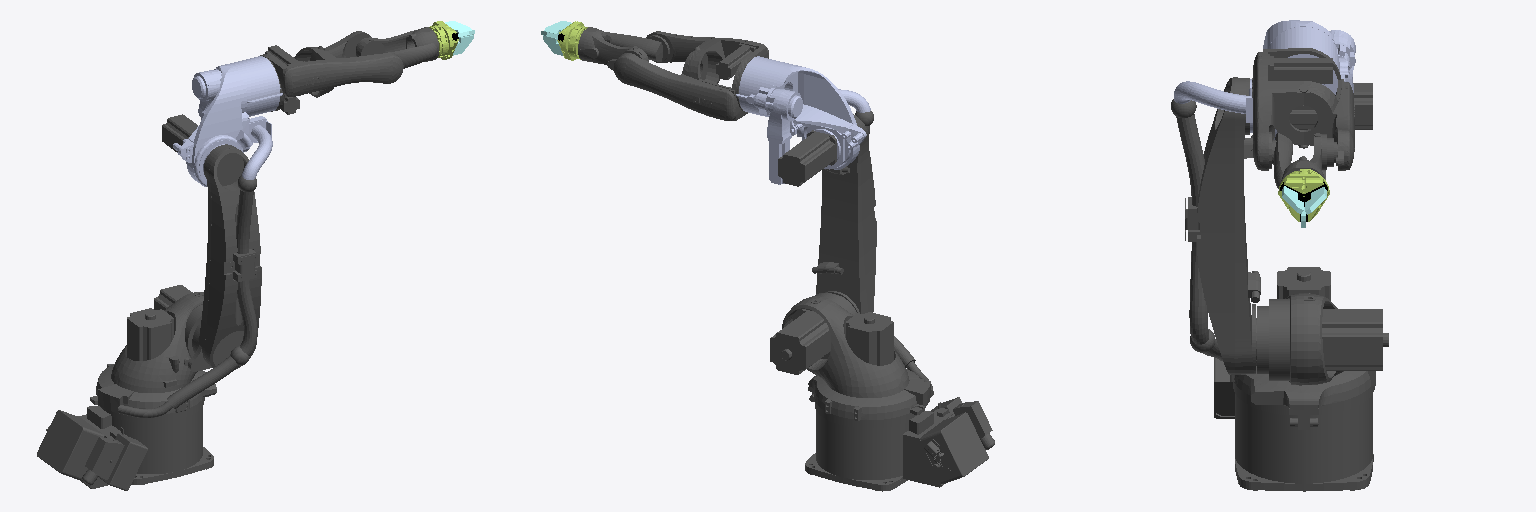
robot.urdf — kr52_description:
<?xml version="1.0" encoding="utf-8"?>
<!-- This URDF was automatically created by SolidWorks to URDF Exporter! Originally created by [author] ([email redacted]) 
     Commit Version: 1.5.1-0-g916b5db  Build Version: 1.5.7152.31018
     For more information, please see http://wiki.ros.org/sw_urdf_exporter -->
<robot name="kr52_description">

  <link name="world"/>

  <joint name="world_to_base" type="fixed">
    <origin xyz="0 0 0" rpy="0 0 0" />
    <parent link="world" />
    <child link="base_link" />
  </joint>

  <link name="base_link">
    <inertial>
	#0.19646 -0.30303 0.18999
      <origin xyz="-0.065069 -0.01427 0.10905" rpy="0 0 0" />
      <mass value="47.205" />
      <inertia ixx="0.5079746" ixy="0.1075298" ixz="0.0244584" iyy="0.9674713" iyz="0.0026404" izz="1.1301033" />
    </inertial>
    <visual>
      <origin xyz="0 0 0" rpy="0 0 0" />
      <geometry>
        <mesh filename="package://kr52_description/meshes/base_link.STL" />
      </geometry>
      <material name="">
        <color rgba="0.4 0.4 0.4 1" />
      </material>
    </visual>
    <collision>
      <origin xyz="0 0 0" rpy="0 0 0" />
      <geometry>
        <mesh filename="package://kr52_description/meshes/base_link.STL" />
      </geometry>
    </collision>
  </link>

  <link name="link_1">
    <inertial>
      <origin xyz="0.0748782 -0.0024585 0.1155281" rpy="0 0 0" />
      <mass value="30.491" />
      <inertia ixx="0.37566" ixy="0.01751" ixz="0.1217" iyy="0.5037" iyz="0.0122" izz="0.5398" />
    </inertial>
    <visual>
      <origin xyz="0 0 0" rpy="0 0 0" />
      <geometry>
        <mesh filename="package://kr52_description/meshes/link_1.STL" />
      </geometry>
      <material name="">
        <color rgba="0.4 0.4 0.4 1" />
      </material>
    </visual>
    <collision>
      <origin xyz="0 0 0" rpy="0 0 0" />
      <geometry>
        <mesh filename="package://kr52_description/meshes/link_1.STL" />
      </geometry>
    </collision>
  </link>

  <joint name="base_to_link1" type="continuous">
    <origin xyz="0 0 0.2255" rpy="0 0 0" />
    <parent link="base_link" />
    <child link="link_1" />
    <axis xyz="0 0 1" />
    <limit
      lower="-2.7053"
      upper="2.7053"
      effort="0"
      velocity="2.72" />
  </joint>

  <link name="link_2">
    <inertial>
      <origin xyz="0.002326 -0.14691 0.3219" rpy="0 0 0" />
      <mass value="19.483" />
      <inertia ixx="1.0010428" ixy="-0.0027968" ixz="-0.0002311" iyy="0.8438332" iyz="0.1673340" izz="0.2118056" />
    </inertial>
    <visual>
      <origin xyz="0 -0.12 0" rpy="0 0 0" />
      <geometry>
        <mesh
          filename="package://kr52_description/meshes/link_2.STL" />
      </geometry>
      <material name="">
        <color rgba="0.4 0.4 0.4 1" />
      </material>
    </visual>
    <collision>
      <origin xyz="0 -0.12 0" rpy="0 0 0" />
      <geometry>
        <mesh
          filename="package://kr52_description/meshes/link_2.STL" />
      </geometry>
    </collision>
  </link>

  <joint name="link1_to_link2" type="continuous">
    <origin xyz="0.18106 -0.002 0.178" rpy="0 0 0" />
    <parent link="link_1" />
    <child link="link_2" />
    <axis xyz="0 1 0" />
    <limit
      lower="-3.1416"
      upper="1.1345"
      effort="0"
      velocity="2.72" />
  </joint>


  <link name="link_3">
    <inertial>
      <origin xyz="0.08651 -0.03078 0.09728" rpy="0 0 0" />
      <mass value="13.345" />
      <inertia ixx="0.18246" ixy="0.03176" ixz="0.05816" iyy="0.18121" iyz="0.03367" izz="0.17365" />
    </inertial>
    <visual>
      <origin xyz="0 -0.135 0" rpy="0 0 0" />
      <geometry>
        <mesh filename="package://kr52_description/meshes/link_3.STL" />
      </geometry>
      <material name="">
        <color rgba="0.79216 0.81961 0.93333 1" />
      </material>
    </visual>
    <collision>
      <origin xyz="0 -0.135 0" rpy="0 0 0" />
      <geometry>
        <mesh filename="package://kr52_description/meshes/link_3.STL" />
      </geometry>
    </collision>
  </link>

  <joint name="link2_to_link3" type="continuous">
    <origin xyz="0 0 0.6" rpy="0 0 0" />
    <parent link="link_2" />
    <child link="link_3" />
    <axis xyz="0 1 0" />
    <limit
      lower="-1.9199"
      upper="2.9671"
      effort="0"
      velocity="3.96" />
  </joint>


  <link name="link_4">
    <inertial>
      <origin xyz="0.17404 -0.00056 0.00022" rpy="0 0 0" />
      <mass value="7.4654" />
      <inertia ixx="0.06612" ixy="-0.00043" ixz="0.00014" iyy="0.094073" iyz="-0.01259" izz="0.15737" />
    </inertial>
    <visual>
      <origin xyz="0 0 0" rpy="0 0 0" />
      <geometry>
        <mesh filename="package://kr52_description/meshes/link_4.STL" />
      </geometry>
      <material name="">
        <color rgba="0.4 0.4 0.4 1" />
      </material>
    </visual>
    <collision>
      <origin xyz="0 0 0" rpy="0 0 0" />
      <geometry>
        <mesh filename="package://kr52_description/meshes/link_4.STL" />
      </geometry>
    </collision>
  </link>

  <joint name="link3_to_link4" type="continuous">
    <origin xyz="0.2246 0 0.17" rpy="0 0 0" />
    <parent link="link_3" />
    <child link="link_4" />
    <axis xyz="1 0 0" />
    <limit
      lower="-2.8798"
      upper="2.8798"
      effort="0"
      velocity="6.81" />
  </joint>


  <link name="link_5">
    <inertial>
      <origin xyz="0.075375 -0.0070921 0" rpy="0 0 0" />
      <mass value="1.9338" />
      <inertia ixx="0.00493" ixy="-0.00058" ixz="0.0" iyy="0.01155" iyz="0.0" izz="0.01465" />
    </inertial>
    <visual>
      <origin xyz="0 0 0" rpy="0 0 0" />
      <geometry>
        <mesh filename="package://kr52_description/meshes/link_5.STL" />
      </geometry>
      <material name="">
        <color rgba="0.4 0.4 0.4 1" />
      </material>
    </visual>
    <collision>
      <origin xyz="0 0 0" rpy="0 0 0" />
      <geometry>
        <mesh
          filename="package://kr52_description/meshes/link_5.STL" />
      </geometry>
    </collision>
  </link>

  <joint
    name="link4_to_link5"
    type="continuous">
    <origin
      xyz="0.3942 0 0"
      rpy="0 0 0" />
    <parent
      link="link_4" />
    <child
      link="link_5" />
    <axis
      xyz="0 1 0" />
    <limit
      lower="-2.4435"
      upper="2.4435"
      effort="0"
      velocity="6.81" />
  </joint>


  <link
    name="link_6">
    <inertial>
      <origin xyz="0 0 0" rpy="0 0 0" />
      <mass value="0.036057" />
      <inertia ixx="0.0000305" ixy="0" ixz="0" iyy="0.0000159" iyz="0" izz="0.0000160" />
    </inertial>
    <visual>
      <origin
        xyz="0 0 0"
        rpy="0 0 0" />
      <geometry>
        <mesh
          filename="package://kr52_description/meshes/link_6.STL" />
      </geometry>
      <material
        name="">
        <color
          rgba="0.4 0.4 0.4 1" />
      </material>
    </visual>
    <collision>
      <origin
        xyz="0 0 0"
        rpy="0 0 0" />
      <geometry>
        <mesh
          filename="package://kr52_description/meshes/link_6.STL" />
      </geometry>
    </collision>
  </link>

  <joint name="link5_to_link6"
    type="continuous">
    <origin
      xyz="0.1845 0.002 0"
      rpy="0 0 0" />
    <parent
      link="link_5" />
    <child
      link="link_6" />
    <axis
      xyz="1 0 0" />
  </joint>


    <!-- ******************** GRIPPER *********************-->
    <link name="base_link_grp">
        <inertial>
            <origin xyz="-0.12444 0.015119 0.11802" rpy="0 0 0" />
            <mass value="0.13435" />
            <inertia ixx="0.0000834" ixy="0.0" ixz="0.0" iyy="0.0001620" iyz="0.0" izz="0.0000794" />
        </inertial>

        <visual>
            <origin xyz="0 0 0" rpy="0 0 0" />
            <geometry>
                <mesh filename="package://gripper_schunk_kuka/meshes/base_link_grp.STL" />
            </geometry>
            <material name="">
                <color rgba="0.79 0.9 0.48 1" />
            </material>
        </visual>
        <collision>
            <origin xyz="0 0 0" rpy="0 0 0" />
            <geometry>
                <mesh filename="package://gripper_schunk_kuka/meshes/base_link_grp.STL" />
            </geometry>
        </collision>
    </link>

    <joint name="link6_to_bgrp" type="fixed">
        <origin xyz="0.0155 0 0" rpy="0 0 0" />
        <parent link="link_6" />
        <child link="base_link_grp" />
    </joint>

    <link name="structure_grp">
        <inertial>
            <origin xyz="-0.00021291 0.023532 3.5559E-05" rpy="0 0 0" />
            <mass value="1.0789" />
            <inertia ixx="0.0009873" ixy="-0.0" ixz="0.0" iyy="0.0015558" iyz="0.0" izz="0.0009789" />
        </inertial>
        <visual>
            <origin xyz="0 0 0" rpy="0 0 0" />
            <geometry>
                <mesh filename="package://gripper_schunk_kuka/meshes/structure_grp.STL" />
            </geometry>
            <material name="">
                <color rgba="0.79 0.9 0.48 1" />
            </material>
        </visual>
        <collision>
            <origin xyz="0 0 0" rpy="0 0 0" />
            <geometry>
                <mesh filename="package://gripper_schunk_kuka/meshes/structure_grp.STL" />
            </geometry>
        </collision>
    </link>

    <joint name="base_to_str_grp" type="fixed">
        <origin xyz="0.0063 0 0" rpy="0 0 0" />
        <parent link="base_link_grp" />
        <child link="structure_grp" />
    </joint>

    <link name="guide_1_grp">
        <inertial>
            <origin xyz="0 0.009 0.027502" rpy="0 0 0" />
            <mass value="0.06552" />
            <inertia ixx="0.0000180" ixy="0.0" ixz="0.0" iyy="0.0000185" iyz="0.0" izz="0.0000046" />
        </inertial>

        <visual>
            <origin xyz="0 0 0" rpy="0 0 0" />
            <geometry>
                <mesh filename="package://gripper_schunk_kuka/meshes/guide_1_grp.STL" />
            </geometry>
            <material name="">
                <color rgba="0 0 0 1" />
            </material>
        </visual>
        <collision>
            <origin xyz="0 0 0" rpy="0 0 0" />
            <geometry>
                <mesh filename="package://gripper_schunk_kuka/meshes/guide_1_grp.STL" />
            </geometry>
        </collision>
    </link>

    <joint name="str_to_g1_grp" type="prismatic">
        <origin xyz="0.0321 0 -0.0043" rpy="3.1416 0 0" />
        <parent link="structure_grp" />
        <child link="guide_1_grp" />
        <axis xyz="0 0 1" />
		<dynamics damping="0.7"/>
        <limit lower="0" upper="0.005" effort="0" velocity="0.05" />
    </joint>

    <link name="guide_2_grp">
        <inertial>
            <origin xyz="0 0.0094 0.027502" rpy="0 0 0" />
            <mass value="0.06552" />
            <inertia ixx="0.0000180" ixy="0.0" ixz="0.0" iyy="0.0000185" iyz="0.0" izz="0.0000046" />
        </inertial>

        <visual>
            <origin xyz="0 0 0" rpy="0 0 0" />
            <geometry>
                <mesh filename="package://gripper_schunk_kuka/meshes/guide_1_grp.STL" />
            </geometry>
            <material name="">
                <color rgba="0 0 0 1" />
            </material>
        </visual>
        <collision>
            <origin xyz="0 0 0" rpy="0 0 0" />
            <geometry>
                <mesh filename="package://gripper_schunk_kuka/meshes/guide_1_grp.STL" />
            </geometry>
        </collision>
    </link>

    <joint name="str_to_g2_grp" type="prismatic">
        #-0.0037239 0.0321 0.00215
        <origin xyz="0.0321 -3.724E-3 2.15E-3" rpy="1.0472 0 0" />
        <parent link="structure_grp" />
        <child link="guide_2_grp" />
        <axis xyz="0 0 1" />
		<dynamics damping="0.7"/>
        <limit lower="0" upper="0.005" effort="0" velocity="0.05" />
    </joint>

    <link name="guide_3_grp">
        <inertial>
            <origin xyz="0 0.0094502 0.025291" rpy="0 0 0" />
            <mass value="0.06552" />
            <inertia ixx="0.0000180" ixy="0.0" ixz="0.0" iyy="0.0000185" iyz="0.0" izz="0.0000046" />
        </inertial>

        <visual>
            <origin xyz="0 0 0" rpy="0 0 0" />
            <geometry>
                <mesh filename="package://gripper_schunk_kuka/meshes/guide_1_grp.STL" />
            </geometry>
            <material name="">
                <color rgba="0 0 0 1" />
            </material>
        </visual>
        <collision>
            <origin xyz="0 0 0" rpy="0 0 0" />
            <geometry>
                <mesh filename="package://gripper_schunk_kuka/meshes/guide_1_grp.STL" />
            </geometry>
        </collision>
    </link>

    <joint name="str_to_g3_grp" type="prismatic">
        #-0.0037239 0.0321 0.00215
        <origin xyz="0.0321 3.724E-3 2.15E-3" rpy="5.236 0 0" />
        <parent link="structure_grp" />
        <child link="guide_3_grp" />
        <axis xyz="0 0 1" />
		<dynamics damping="0.7"/>
        <limit lower="0" upper="0.005" effort="0" velocity="0.05" />
    </joint>

    <link name="finger1_grp">
        <inertial>
            <origin xyz="0.0099787 0.037092 0.006" rpy="0 0 0" />
            <mass value="0.091368" />
            <inertia ixx="0.0000410" ixy="-0.0000150" ixz="0.0" iyy="0.000018" iyz="0.0" izz="0.0000576" />
        </inertial>

        <visual>
            <origin xyz="0 0 0" rpy="0 0 0" />
            <geometry>
                <mesh filename="package://gripper_schunk_kuka/meshes/finger1_grp.STL" />
            </geometry>
            <material name="">
                <color rgba="0.75294 1 1 1" />
            </material>
        </visual>
        <collision>
            <origin xyz="0 0 0" rpy="0 0 0" />
            <geometry>
                <mesh filename="package://gripper_schunk_kuka/meshes/finger1_grp.STL" />
            </geometry>
        </collision>
    </link>

    <joint name="g1_to_f1_grp" type="fixed">
        #0.006 0.0209 0.0165
        <origin xyz="0.0209 -0.0053 0.0165" rpy="0 1.5708 0" />
        <parent link="guide_1_grp" />
        <child link="finger1_grp" />
    </joint>

    <link name="finger2_grp">
        <inertial>
            <origin xyz="0.0099787 0.037092 0.006" rpy="0 0 0" />
            <mass value="0.091368" />
            <inertia ixx="0.0000410" ixy="-0.0000150" ixz="0.0" iyy="0.000018" iyz="0.0" izz="0.0000576" />
        </inertial>

        <visual>
            <origin xyz="0 0 0" rpy="0 0 0" />
            <geometry>
                <mesh filename="package://gripper_schunk_kuka/meshes/finger1_grp.STL" />
            </geometry>
            <material name="">
                <color rgba="0.75294 1 1 1" />
            </material>
        </visual>
        <collision>
            <origin xyz="0 0 0" rpy="0 0 0" />
            <geometry>
                <mesh filename="package://gripper_schunk_kuka/meshes/finger1_grp.STL" />
            </geometry>
        </collision>
    </link>

    <joint name="g2_to_f2_grp" type="fixed">
        <origin xyz="0.0209 -0.0053 0.0165" rpy="0 1.5708 0" />
        <parent link="guide_2_grp" />
        <child link="finger2_grp" />
    </joint>

    <link name="finger3_grp">
        <inertial>
            <origin xyz="0.0099787 0.037092 0.006" rpy="0 0 0" />
            <mass value="0.091368" />
            <inertia ixx="0.0000410" ixy="-0.0000150" ixz="0.0" iyy="0.000018" iyz="0.0" izz="0.0000576" />
        </inertial>

        <visual>
            <origin xyz="0 0 0" rpy="0 0 0" />
            <geometry>
                <mesh filename="package://gripper_schunk_kuka/meshes/finger1_grp.STL" />
            </geometry>
            <material name="">
                <color rgba="0.75294 1 1 1" />
            </material>
        </visual>
        <collision>
            <origin xyz="0 0 0" rpy="0 0 0" />
            <geometry>
                <mesh filename="package://gripper_schunk_kuka/meshes/finger1_grp.STL" />
            </geometry>
        </collision>
    </link>
    <joint name="g3_to_f3_grp" type="fixed">
        <origin xyz="0.0209 -0.0053 0.0165" rpy="0 1.5708 0" />
        <parent link="guide_3_grp" />
        <child link="finger3_grp" />
    </joint>

<!-- *********************** TRANSMITIONS ************************* -->

    <transmission name="trans_base_to_link1">
        <type>transmission_interface/SimpleTransmission</type>
        <joint name="base_to_link1">
            <hardwareInterface>hardware_interface/PositionJointInterface</hardwareInterface>
        </joint>
        <actuator name="base_to_link1_motor">
            <hardwareInterface>hardware_interface/PositionJointInterface</hardwareInterface>
            <mechanicalReduction>1</mechanicalReduction>
        </actuator>
    </transmission>
    <transmission name="trans_link1_to_link2">
        <type>transmission_interface/SimpleTransmission</type>
        <joint name="link1_to_link2">
            <hardwareInterface>hardware_interface/PositionJointInterface</hardwareInterface>
        </joint>
        <actuator name="link1_to_link2_motor">
            <hardwareInterface>hardware_interface/PositionJointInterface</hardwareInterface>
            <mechanicalReduction>1</mechanicalReduction>
        </actuator>
    </transmission>
    <transmission name="trans_link2_to_link3">
        <type>transmission_interface/SimpleTransmission</type>
        <joint name="link2_to_link3">
            <hardwareInterface>hardware_interface/PositionJointInterface</hardwareInterface>
        </joint>
        <actuator name="link2_to_link3_motor">
            <hardwareInterface>hardware_interface/PositionJointInterface</hardwareInterface>
            <mechanicalReduction>1</mechanicalReduction>
        </actuator>
    </transmission>
    <transmission name="trans_link3_to_link4">
        <type>transmission_interface/SimpleTransmission</type>
        <joint name="link3_to_link4">
            <hardwareInterface>hardware_interface/PositionJointInterface</hardwareInterface>
        </joint>
        <actuator name="link3_to_link4_motor">
            <hardwareInterface>hardware_interface/PositionJointInterface</hardwareInterface>
            <mechanicalReduction>1</mechanicalReduction>
        </actuator>
    </transmission>
    <transmission name="trans_link4_to_link5">
        <type>transmission_interface/SimpleTransmission</type>
        <joint name="link4_to_link5">
            <hardwareInterface>hardware_interface/PositionJointInterface</hardwareInterface>
        </joint>
        <actuator name="link4_to_link5_motor">
            <hardwareInterface>hardware_interface/PositionJointInterface</hardwareInterface>
            <mechanicalReduction>1</mechanicalReduction>
        </actuator>
    </transmission>
    <transmission name="trans_link5_to_link6">
        <type>transmission_interface/SimpleTransmission</type>
        <joint name="link5_to_link6">
            <hardwareInterface>hardware_interface/PositionJointInterface</hardwareInterface>
        </joint>
        <actuator name="link5_to_link6_motor">
            <hardwareInterface>hardware_interface/PositionJointInterface</hardwareInterface>
            <mechanicalReduction>1</mechanicalReduction>
        </actuator>
    </transmission>
    <transmission name="trans_str_to_g1_grp">
        <type>transmission_interface/SimpleTransmission</type>
        <joint name="str_to_g1_grp">
            <hardwareInterface>hardware_interface/EffortJointInterface</hardwareInterface>
        </joint>
        <actuator name="str_to_g1_grp_motor">
            <hardwareInterface>hardware_interface/EffortJointInterface</hardwareInterface>
            <mechanicalReduction>1</mechanicalReduction>
        </actuator>
    </transmission>
    <transmission name="trans_str_to_g2_grp">
        <type>transmission_interface/SimpleTransmission</type>
        <joint name="str_to_g2_grp">
            <hardwareInterface>hardware_interface/EffortJointInterface</hardwareInterface>
        </joint>
        <actuator name="str_to_g2_grp_motor">
            <hardwareInterface>hardware_interface/EffortJointInterface</hardwareInterface>
            <mechanicalReduction>1</mechanicalReduction>
        </actuator>
    </transmission>
    <transmission name="trans_str_to_g3_grp">
        <type>transmission_interface/SimpleTransmission</type>
        <joint name="str_to_g3_grp">
            <hardwareInterface>hardware_interface/EffortJointInterface</hardwareInterface>
        </joint>
        <actuator name="str_to_g3_grp_motor">
            <hardwareInterface>hardware_interface/EffortJointInterface</hardwareInterface>
            <mechanicalReduction>1</mechanicalReduction>
        </actuator>
    </transmission>

    <!-- ***************** Gazebo plugin for ROS Control ********************** -->
    <gazebo>
        <plugin name="gazebo_ros_control" filename="libgazebo_ros_control.so">
            <robotNamespace>/</robotNamespace>
        </plugin>
    </gazebo>

</robot>

--- Facts derived from the render (not from the file) ---
Views: 3 orthographic renders of the robot side by side, from view 1: azimuth 30°, elevation 25°; view 2: azimuth 150°, elevation 25°; view 3: azimuth 270°, elevation 25°.
Model kr52_description with 16 links and 15 joints (6 continuous, 3 prismatic, 6 fixed), rooted at world, posed all joints at 0.
Links seen in each view (by area): view 1: link_2, base_link, link_1, link_3, link_4, link_5, structure_grp; view 2: link_1, base_link, link_2, link_3, link_4, link_5, structure_grp; view 3: link_2, link_1, base_link, link_4, link_3, link_5, structure_grp.
Link boxes in pixels (<box>): link_2: <box>162,114,261,371</box>; base_link: <box>37,397,213,490</box>; link_1: <box>90,285,249,417</box>; link_3: <box>173,56,282,186</box>; link_4: <box>260,31,403,114</box>; link_5: <box>356,27,438,68</box>; structure_grp: <box>432,21,458,59</box>; link_1: <box>770,293,933,420</box>; base_link: <box>805,397,994,491</box>; link_2: <box>778,111,876,313</box>; link_3: <box>736,56,870,184</box>; link_4: <box>607,31,768,120</box>; link_5: <box>578,27,662,64</box>; structure_grp: <box>557,21,585,60</box>; link_2: <box>1171,77,1372,374</box>; link_1: <box>1190,267,1388,429</box>; base_link: <box>1214,358,1374,491</box>; link_4: <box>1252,48,1354,170</box>; link_3: <box>1174,20,1355,139</box>; link_5: <box>1272,133,1337,188</box>; structure_grp: <box>1278,170,1329,221</box>.
Bounding box of the posed robot: 1.51 × 0.5094 × 1.26 m (x, y, z).
15 mesh visuals loaded from 11 distinct referenced files (11 binary STL).
